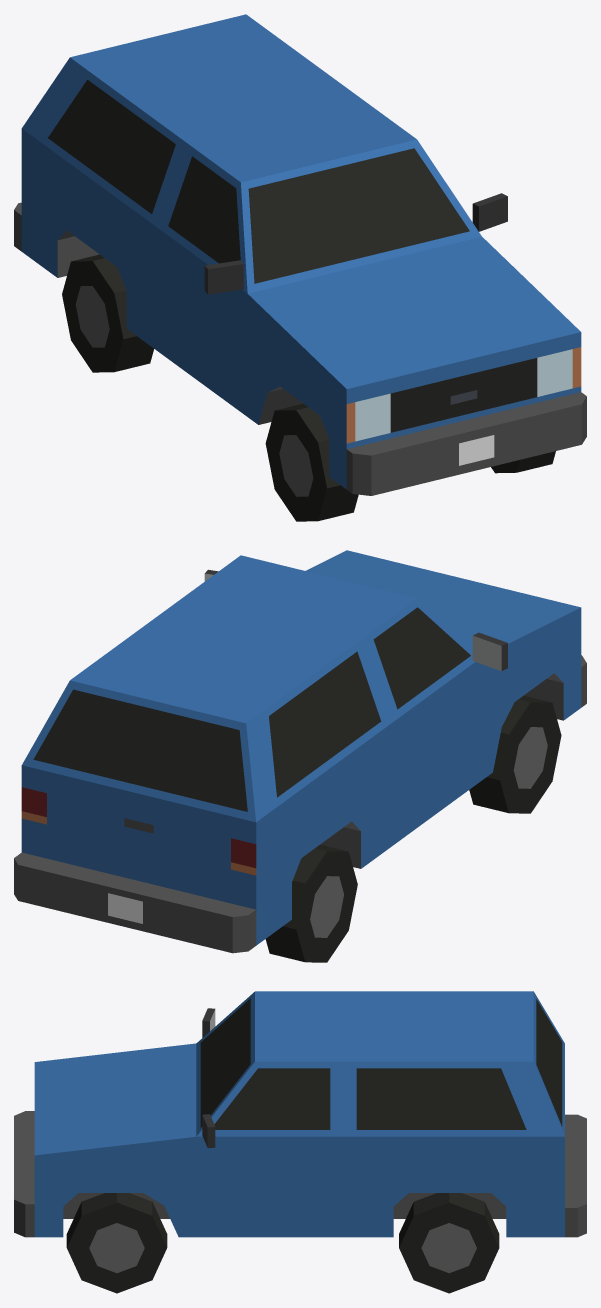
The model's file is Veh_SUV_02_Blue.glb.
3 views of the same model, one above another, from view 1: azimuth 30°, elevation 25°; view 2: azimuth 150°, elevation 25°; view 3: azimuth 270°, elevation 25° (orthographic). The views are drawn at different scales.
Visible parts, largest first — view 1: SUV_02_Blue, Wheel_RR, Wheel_FR, Wheel_FL; view 2: SUV_02_Blue, Wheel_RR, Wheel_FR; view 3: SUV_02_Blue, Wheel_FL, Wheel_RL.
Boxes of the visible parts, left/top/right/bottom form: SUV_02_Blue: left=14, top=14, right=586, bottom=495; Wheel_RR: left=62, top=254, right=153, bottom=372; Wheel_FR: left=265, top=403, right=358, bottom=521; Wheel_FL: left=491, top=451, right=555, bottom=473; SUV_02_Blue: left=14, top=550, right=586, bottom=953; Wheel_RR: left=265, top=844, right=357, bottom=962; Wheel_FR: left=469, top=695, right=561, bottom=813; SUV_02_Blue: left=14, top=991, right=586, bottom=1237; Wheel_FL: left=66, top=1193, right=167, bottom=1293; Wheel_RL: left=399, top=1193, right=499, bottom=1293.
Bounding box in the file's own units: 1.27 × 1.1 × 2.58.
1 material, 1 textured.
